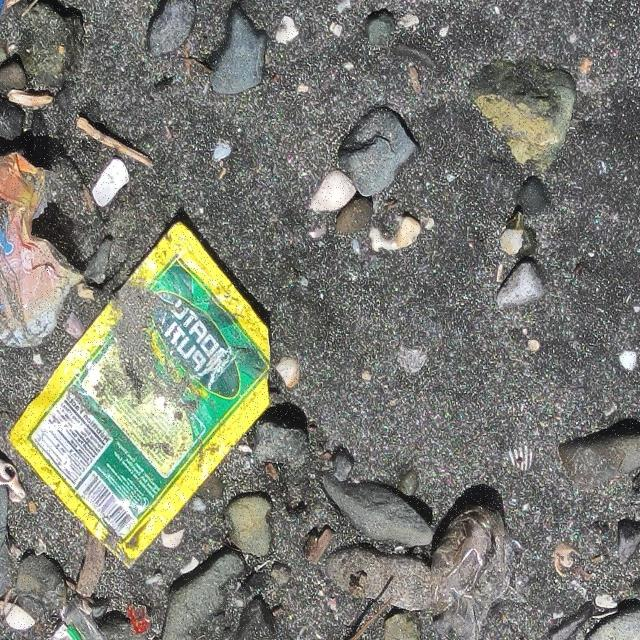plastic_waste: (6, 220, 273, 573), (1, 151, 88, 351)
